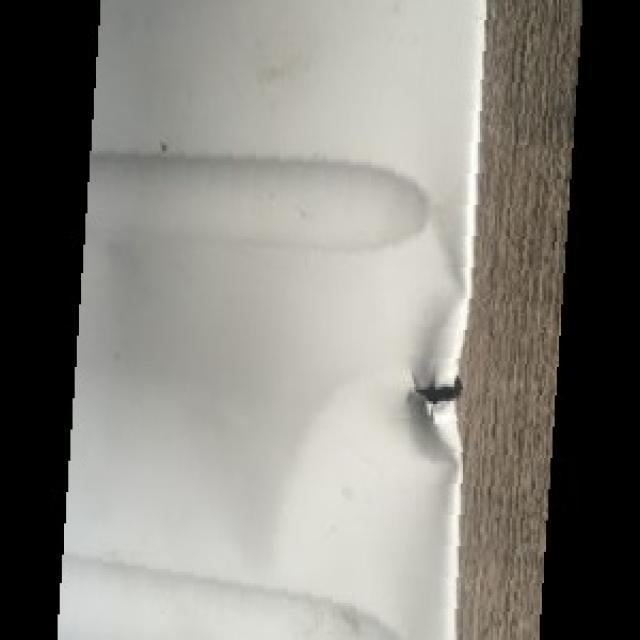crack: (407, 362, 469, 428)
